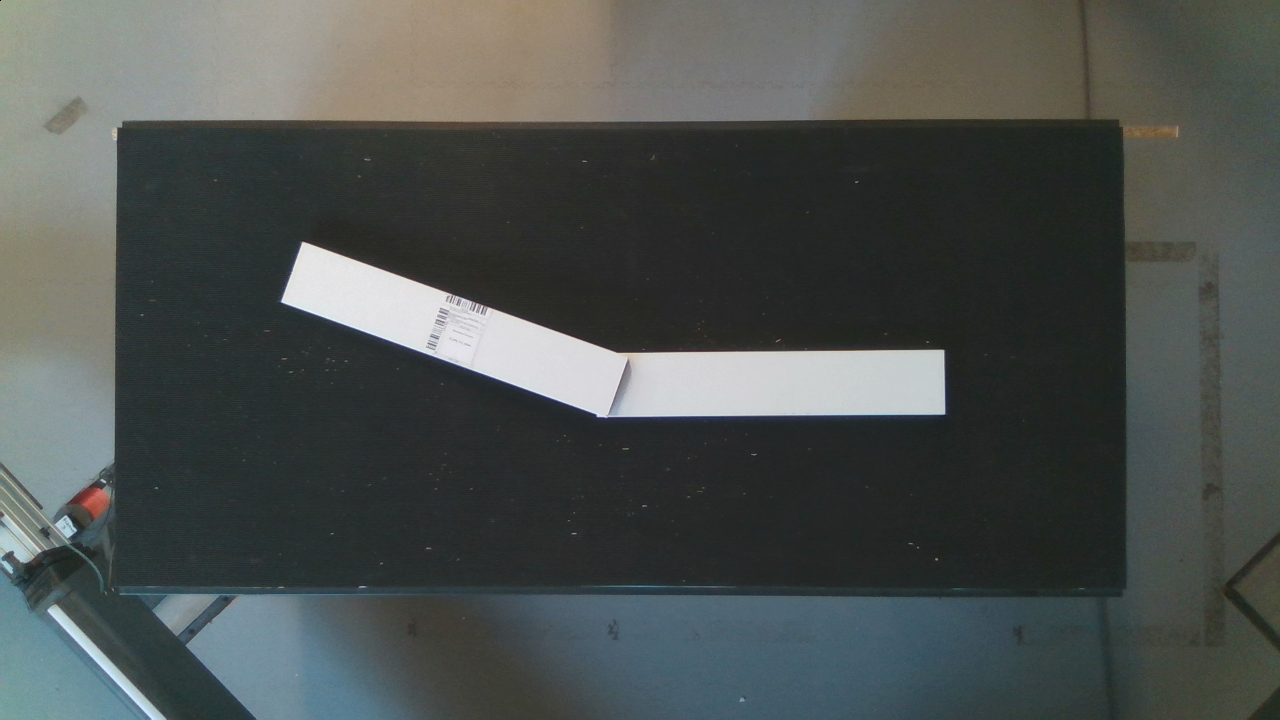barcode: (423, 271, 508, 380)
part1: (278, 233, 636, 425), (585, 325, 970, 445)
